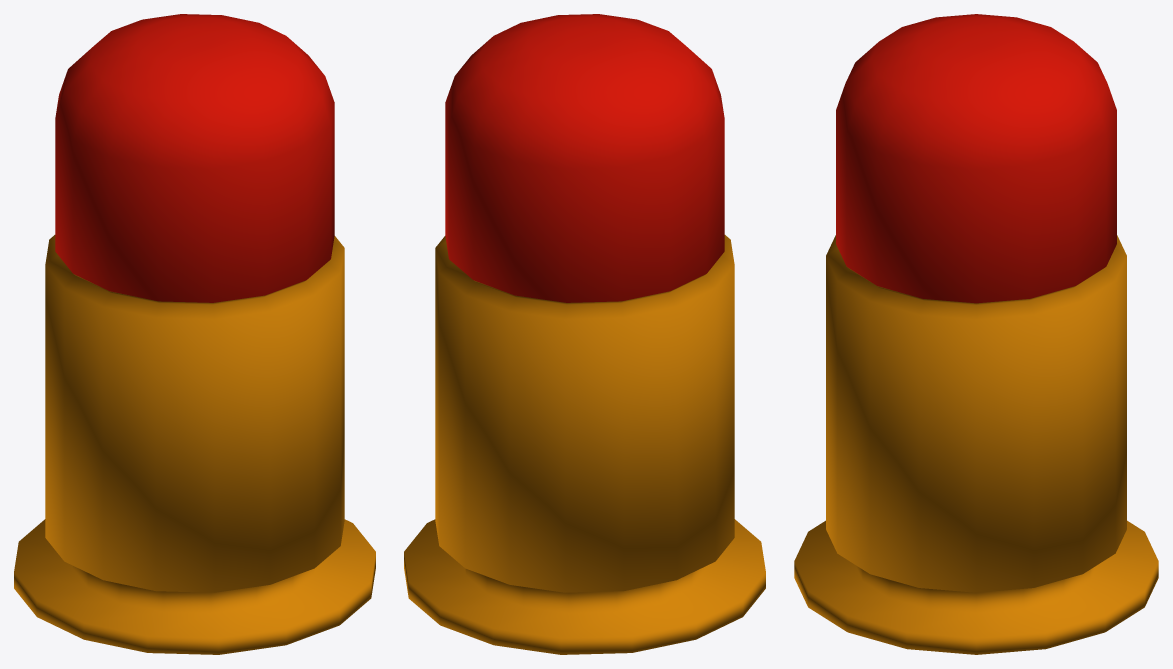
The model's file is bullet.fbx.
3 renders of one model, left to right at view 1: azimuth 30°, elevation 25°; view 2: azimuth 150°, elevation 25°; view 3: azimuth 270°, elevation 25°, orthographic.
Parts seen in each view (by area): view 1: Cylinder; view 2: Cylinder; view 3: Cylinder.
Part boxes in pixels (bbox=[...]): Cylinder: bbox=[14, 14, 375, 654]; Cylinder: bbox=[404, 14, 765, 654]; Cylinder: bbox=[794, 14, 1158, 654].
Size of the model in its own units: 242 by 395 by 242.
